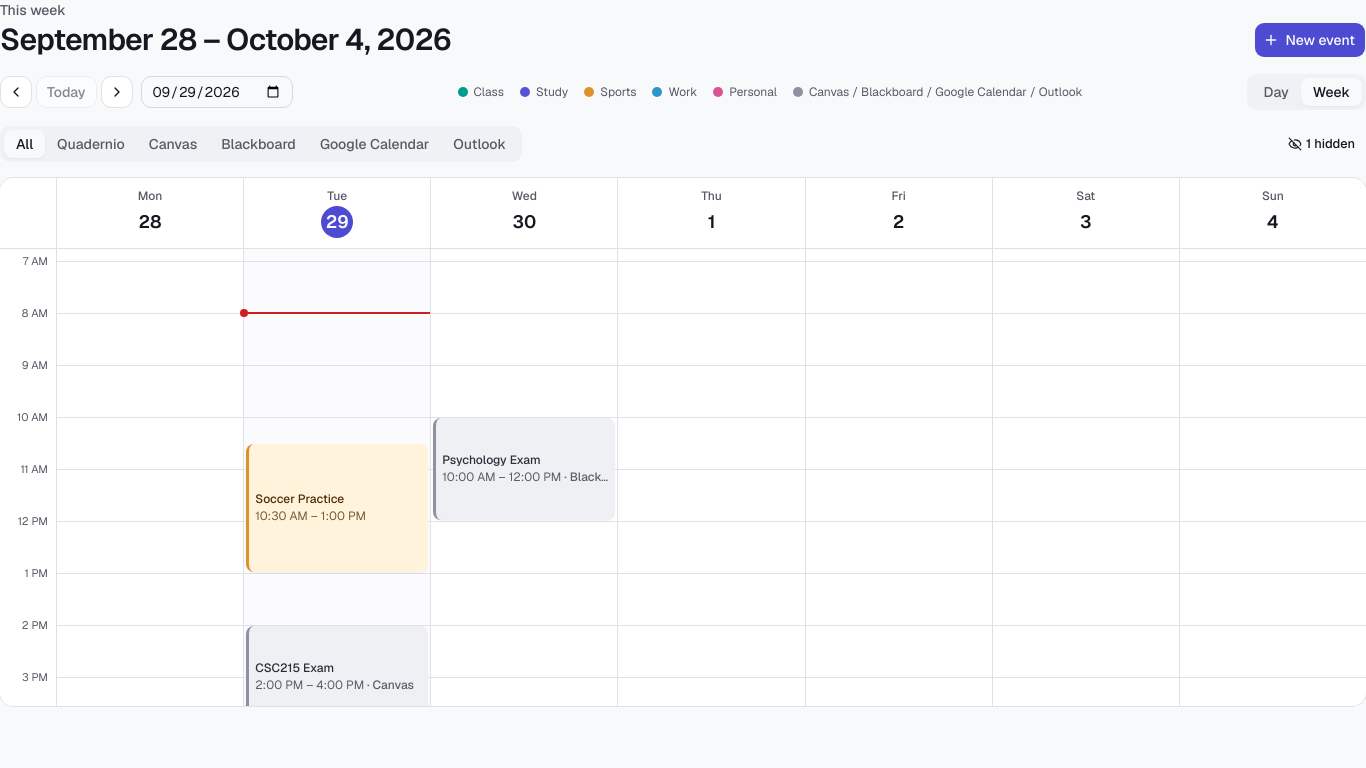
Test case: Calendar with external events › Google Calendar and Outlook join the same calendar: labelled, filterable, read-only with their own link
The image size is (1366, 768).
(page scrolled)
Click the button "Google Calendar" at [375, 144], box [308,130,441,158]
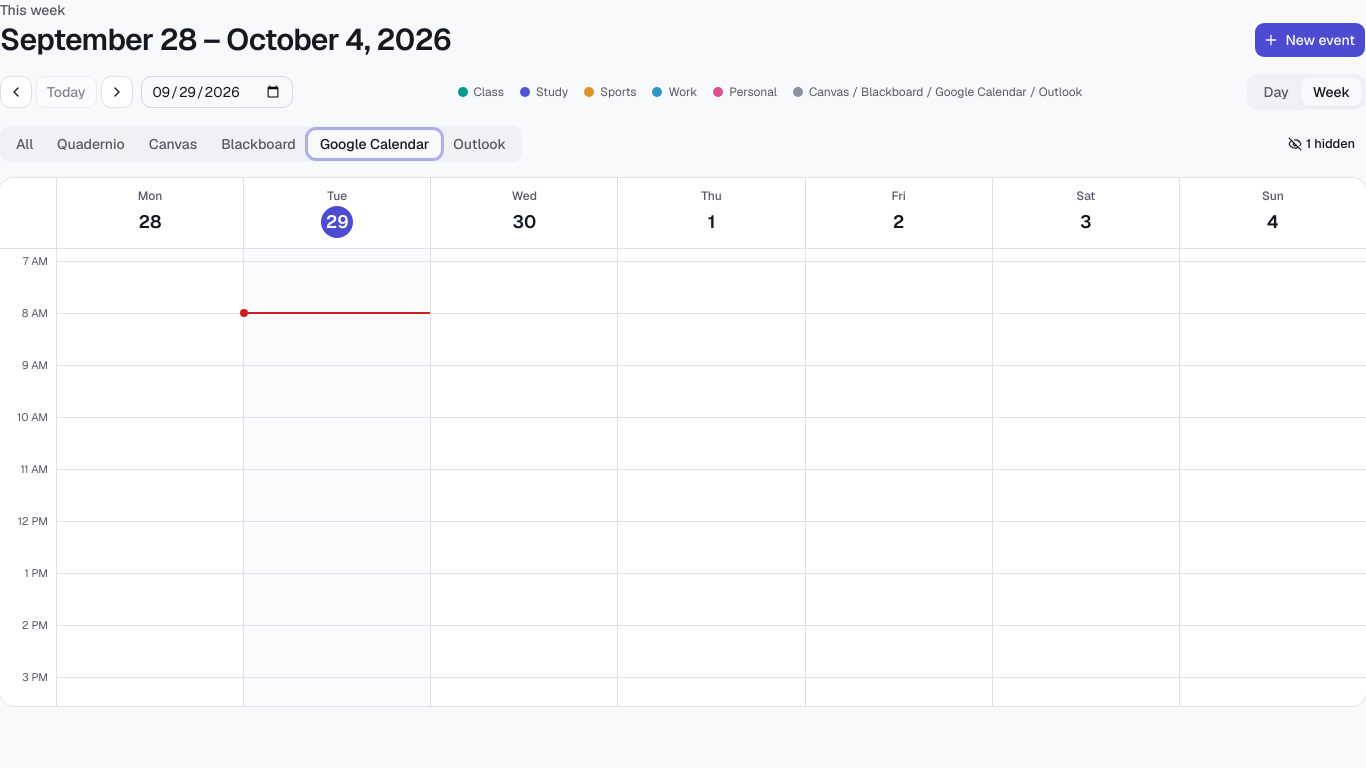
Expected: the button "Team Meeting" is not shown
Expected: the button "CSC215 Exam" is gone
Click the button "Outlook" at [480, 144], box [441,130,518,158]
(page scrolled)
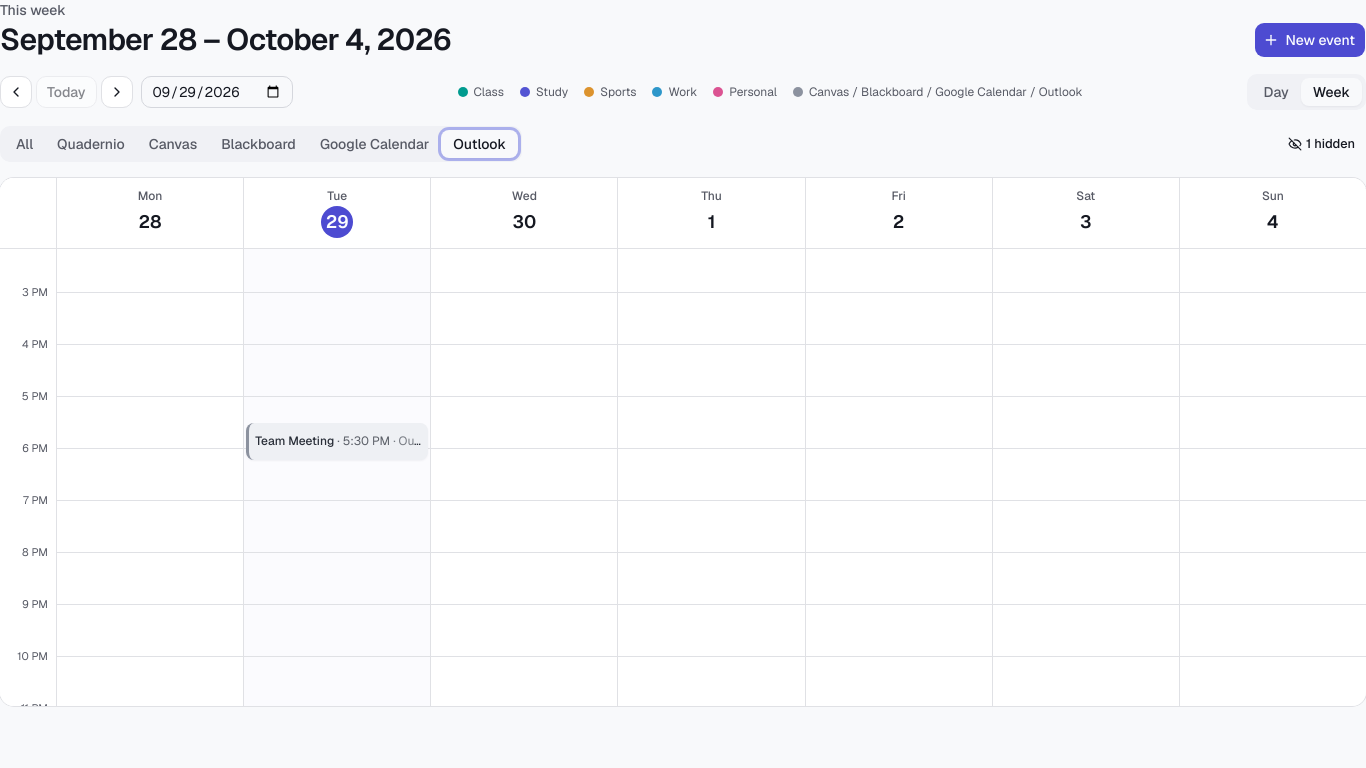
Click the button "Team Meeting · 5:30 PM · Outlook" at [337, 442], box [246,423,428,460]
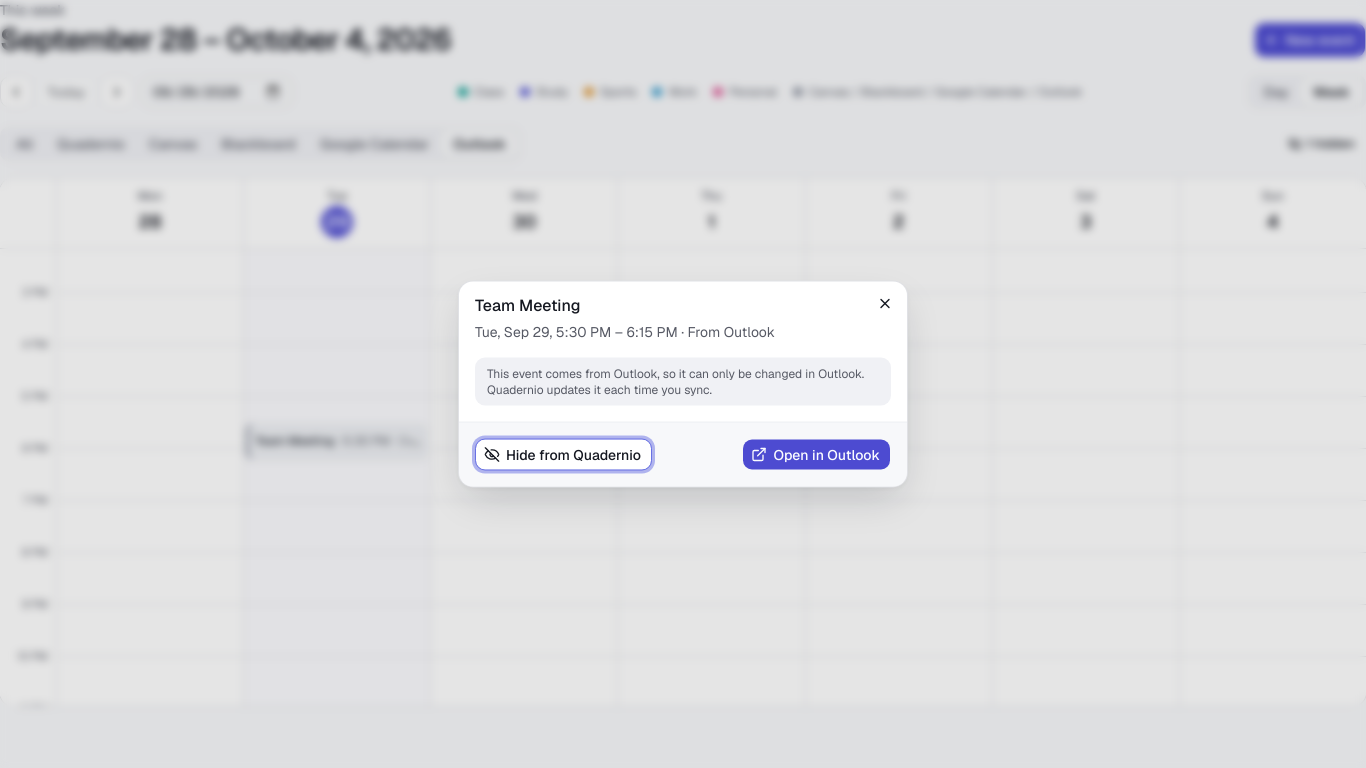
Expected: the text "can only be changed in Outlook" is shown, [475,358,891,406]
